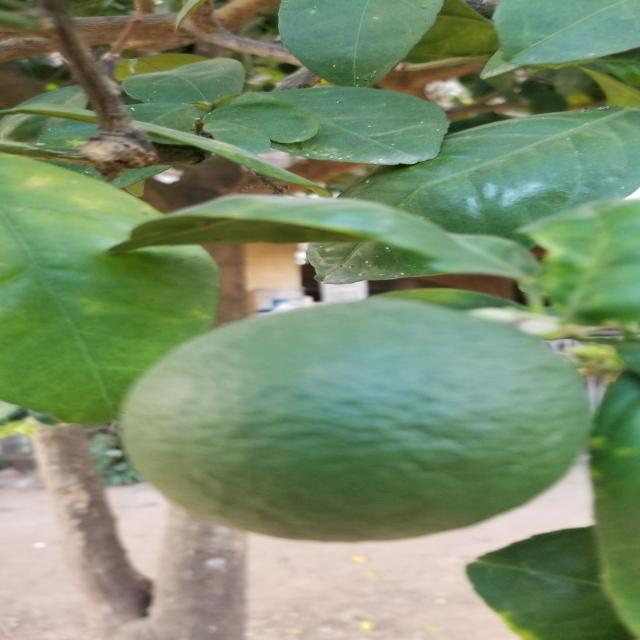Unripe: (105, 292, 604, 552)
